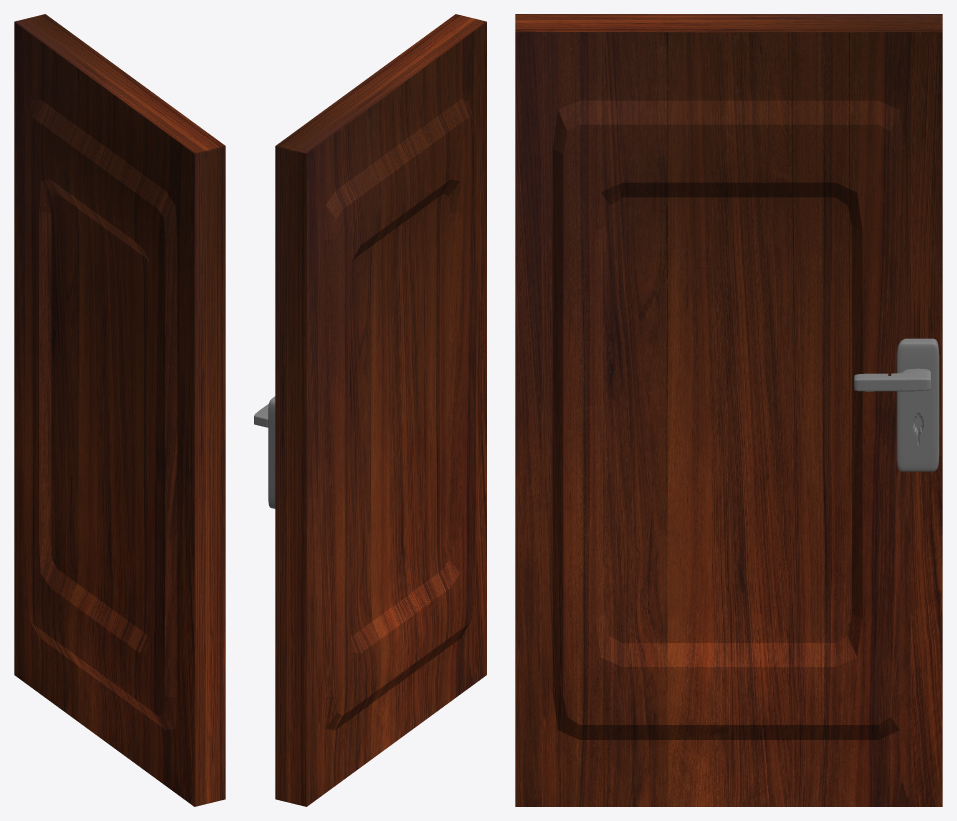
File: LeftDoor.FBX
The picture shows the model from 3 angles, left to right: view 1: azimuth 30°, elevation 25°; view 2: azimuth 150°, elevation 25°; view 3: azimuth 270°, elevation 25°; orthographic projection. The views are drawn at different scales.
Parts seen in each view (by area): view 1: Box001; view 2: Box001, Box004; view 3: Box001, Box004, Box007.
Boxes of the visible parts, x1,y1,x2,y2 form: Box001: [14, 14, 225, 806]; Box001: [275, 14, 486, 806]; Box004: [268, 396, 275, 508]; Box001: [515, 14, 942, 806]; Box004: [896, 338, 939, 471]; Box007: [854, 368, 931, 391].
Size of the model in its own units: 1.33 by 12 by 6.
